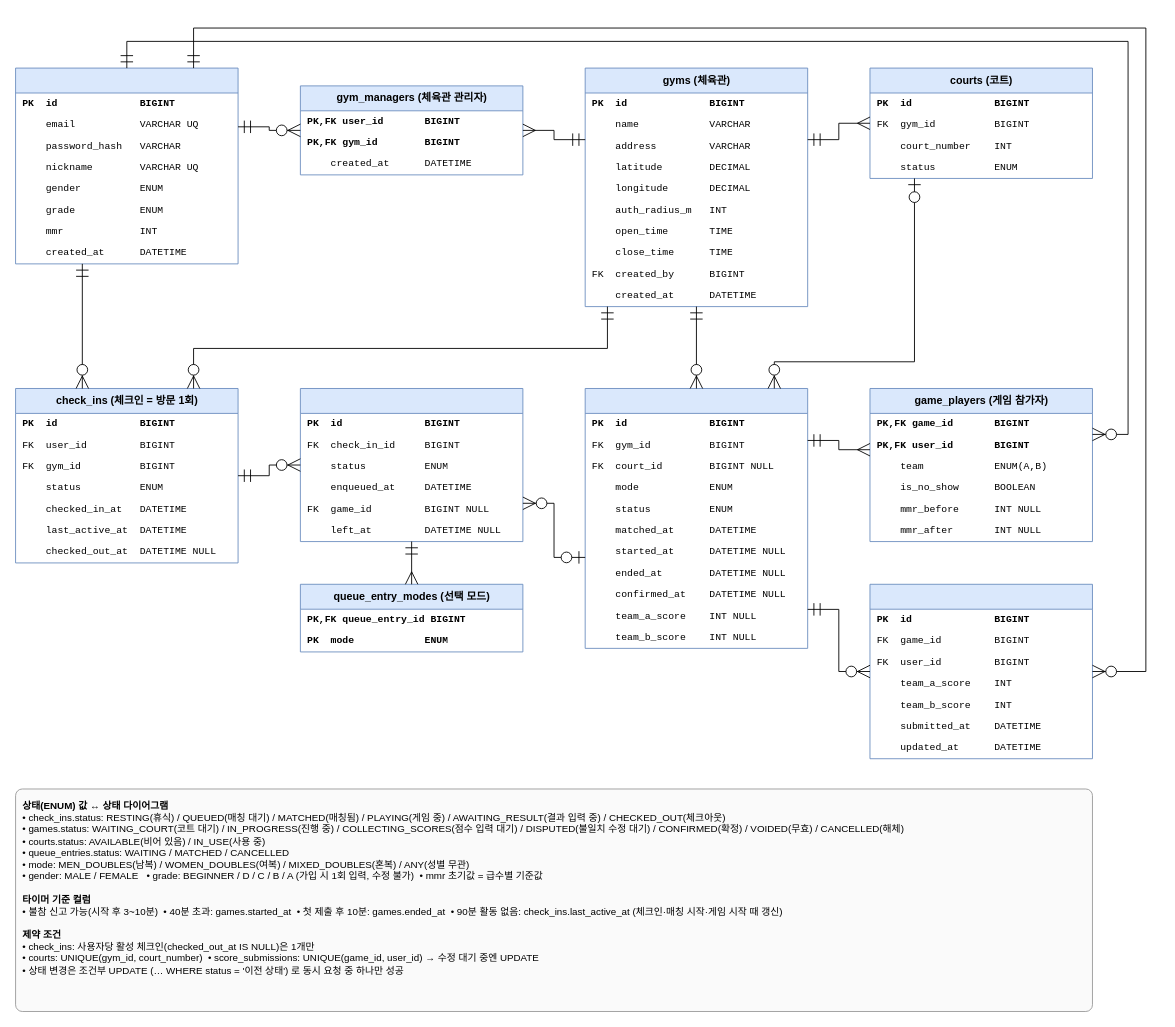
Some shapes in this 1175 by 1027 pixel diagram are drawn without their labels. Each missing label, with the box of its shape:
games (게임): (584, 388, 808, 648)
queue_entries (매칭 대기열): (299, 388, 523, 542)
score_submissions (점수 제출): (869, 583, 1092, 759)
users (사용자): (15, 67, 238, 264)
